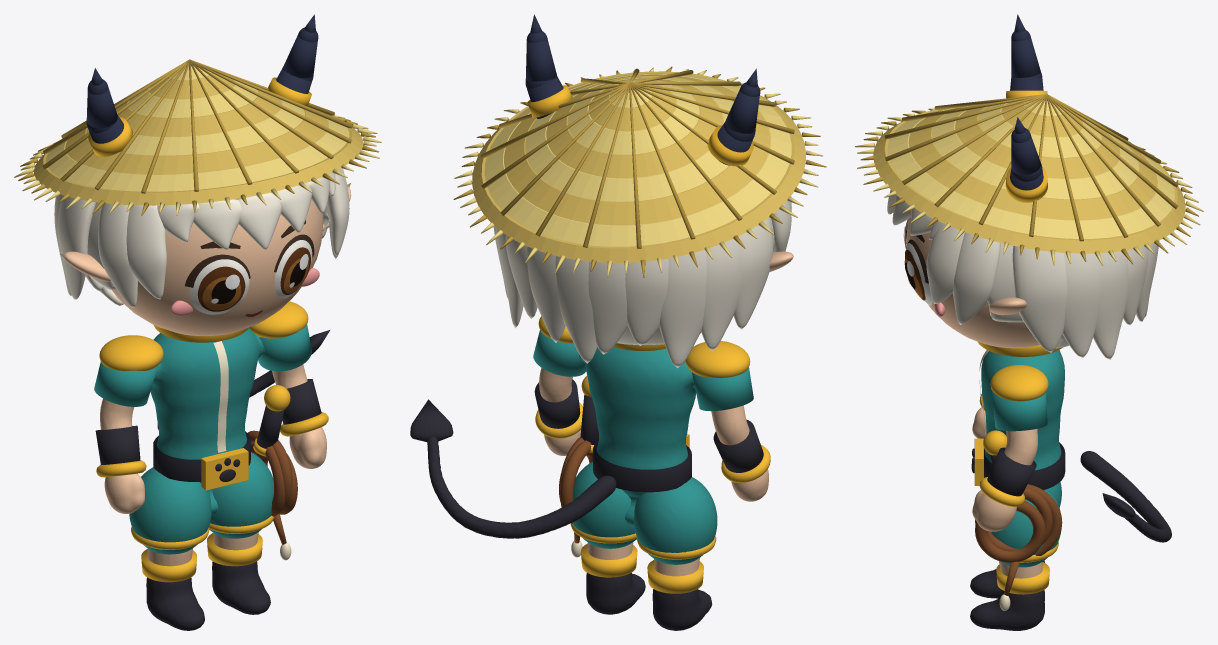
Rendered from osa.glb.
The picture shows the model from 3 angles, left to right: view 1: azimuth 30°, elevation 25°; view 2: azimuth 150°, elevation 25°; view 3: azimuth 270°, elevation 25°; orthographic projection. The views are drawn at different scales.
Visible parts, largest first — view 1: meches, tunique, crane, cone, cone_bord, cone.001, short_jambe, cone.002, short_jambe.001, cone.003, botte, botte.001 (+46 smaller); view 2: meches, tunique, cone, cone_bord, cone.001, cone.002, cone.003, short_jambe, queue, cone.004, short_jambe.001, ceinture (+30 smaller); view 3: meches, cone, cone.001, cone_bord, cone.002, tunique, cone.003, crane, queue, botte.001, cone.004, mancheronne.001 (+29 smaller).
Part boxes in pixels (x1,y1,x2,y2): meches: (54, 168, 349, 308); tunique: (150, 328, 264, 459); crane: (112, 200, 323, 335); cone: (46, 119, 349, 191); cone_bord: (34, 115, 363, 205); cone.001: (65, 109, 328, 174); short_jambe: (129, 467, 211, 554); cone.002: (86, 99, 304, 155); short_jambe.001: (209, 452, 273, 538); cone.003: (115, 90, 281, 136); botte: (146, 577, 204, 630); botte.001: (212, 561, 270, 614); meches: (493, 196, 791, 367); tunique: (579, 347, 696, 469); cone: (484, 73, 791, 246); cone_bord: (472, 71, 805, 262); cone.001: (504, 74, 770, 225); cone.002: (525, 76, 733, 201); cone.003: (546, 78, 723, 178); short_jambe: (634, 477, 717, 564); queue: (427, 436, 616, 538); cone.004: (567, 80, 699, 154); short_jambe.001: (572, 461, 636, 548); ceinture: (593, 441, 691, 492); meches: (887, 190, 1159, 359); cone: (887, 107, 1174, 238); cone.001: (908, 105, 1157, 220); cone_bord: (873, 109, 1185, 253); cone.002: (931, 104, 1139, 199); tunique: (981, 350, 1064, 470); cone.003: (955, 106, 1120, 178); crane: (906, 217, 1039, 348); queue: (1080, 451, 1171, 542); botte.001: (970, 590, 1044, 630); cone.004: (978, 103, 1101, 157); mancheronne.001: (991, 390, 1047, 431).
Bounding box in the file's own units: 2.04 × 3.32 × 1.92.
